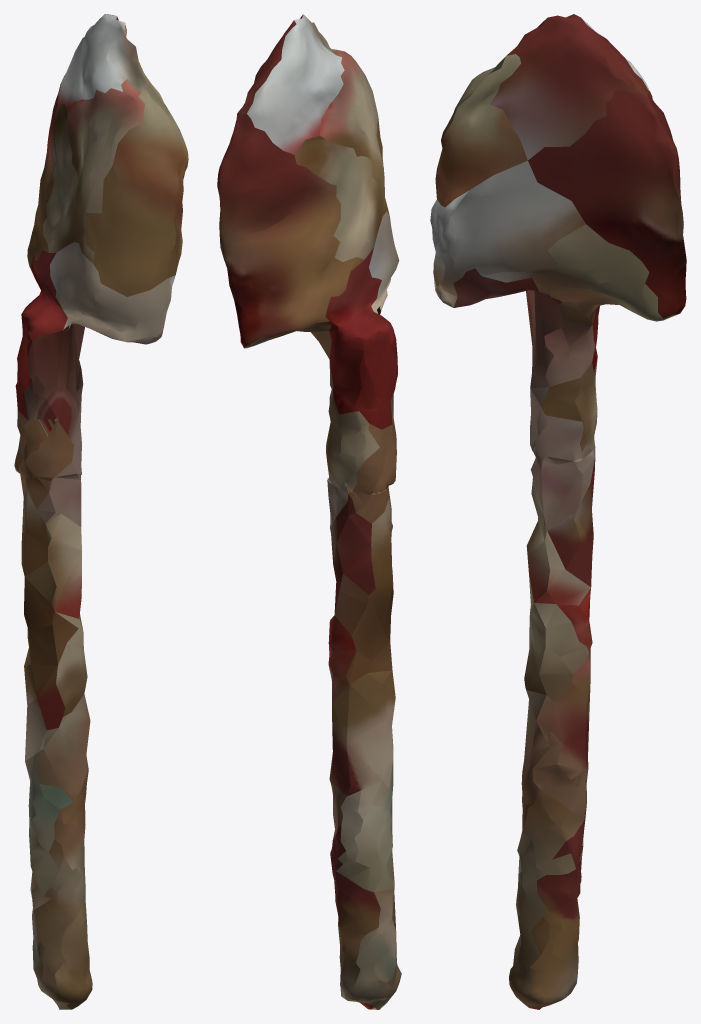
The model's file is Shovel.fbx.
3 views of the same model, side by side, from view 1: azimuth 30°, elevation 25°; view 2: azimuth 150°, elevation 25°; view 3: azimuth 270°, elevation 25° (orthographic). The views are drawn at different scales.
Parts seen in each view (by area): view 1: model_Mesh; view 2: model_Mesh; view 3: model_Mesh.
Part boxes in pixels (x1=…): model_Mesh: x1=14, y1=14, x2=188, y2=1009; model_Mesh: x1=217, y1=14, x2=401, y2=1009; model_Mesh: x1=430, y1=14, x2=686, y2=1009.
Bounding box in the file's own units: 3.82 × 29.26 × 6.64.
